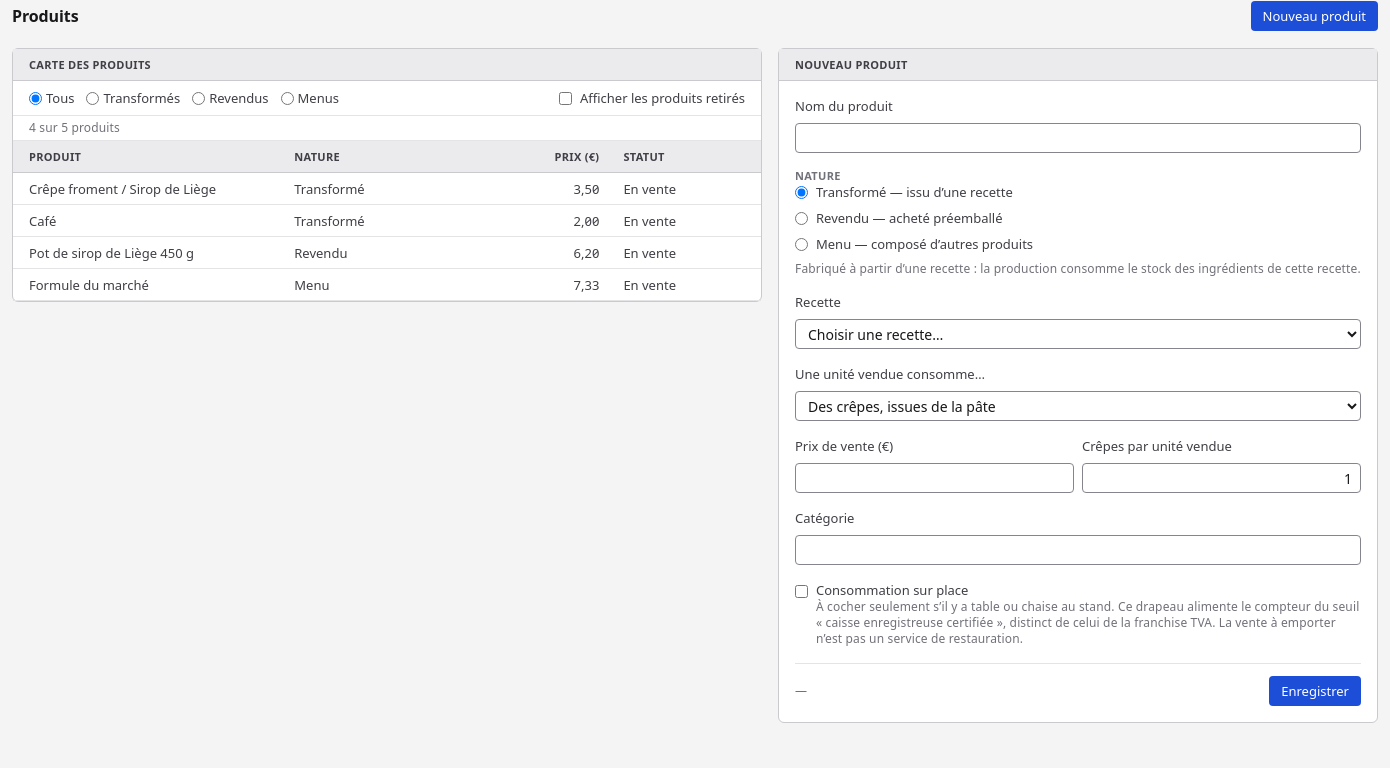
Produits — les trois natures › un menu SANS composant actif est signalé comme la coquille dangereuse qu’il est
Click the row "Formule du marché Menu 7,33 En vente" at (387, 285), box x1=13 y1=269 x2=761 y2=301
(page scrolled)
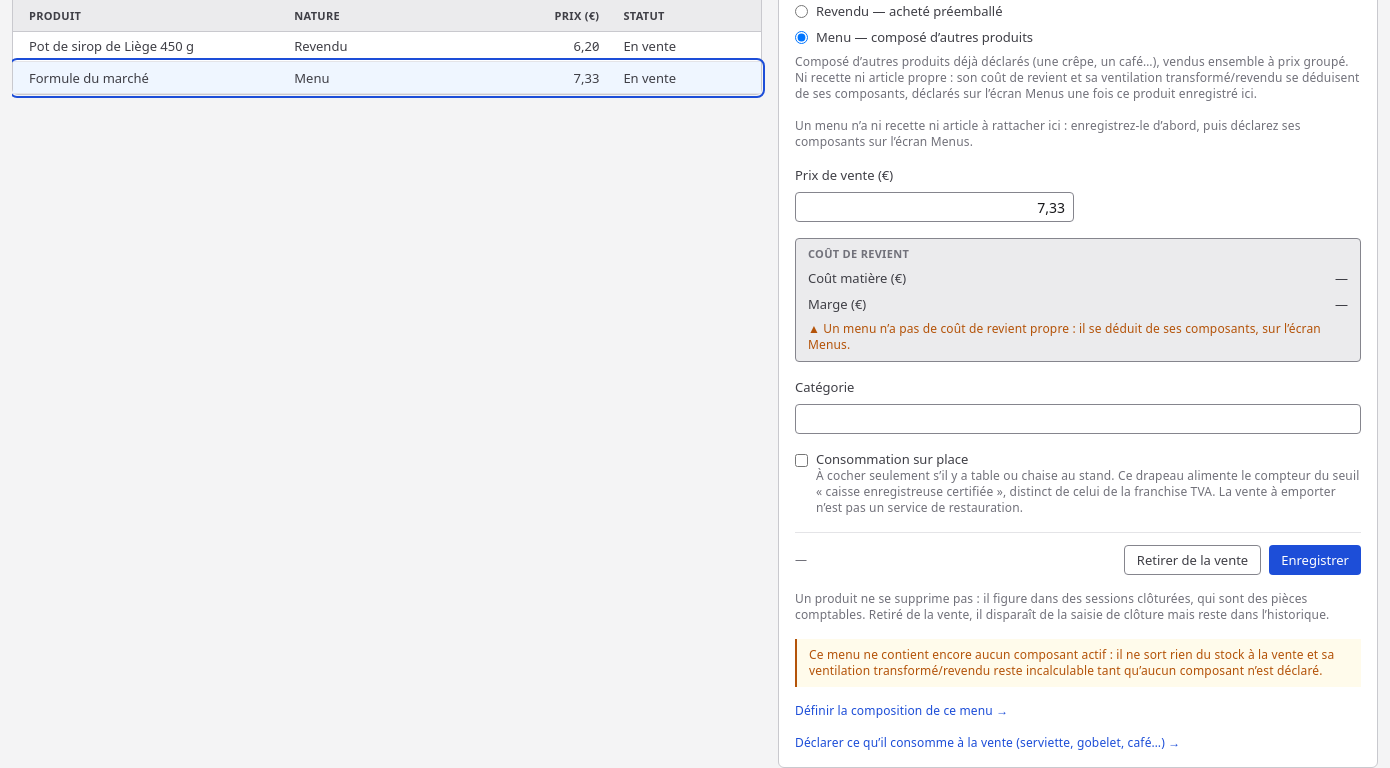
Expected: the text "ne contient encore aucun composant actif" is shown, x1=809 y1=646 x2=1334 y2=679
